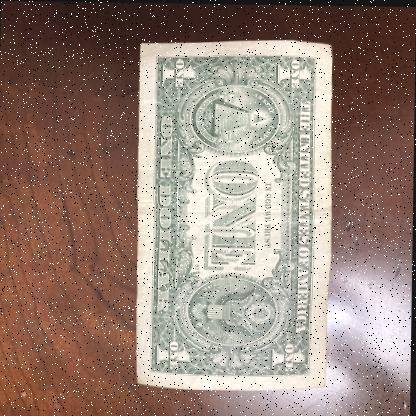one-back: (132, 37, 334, 390)
